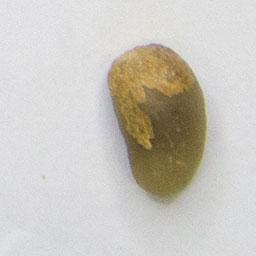longberry: (103, 38, 211, 204)
